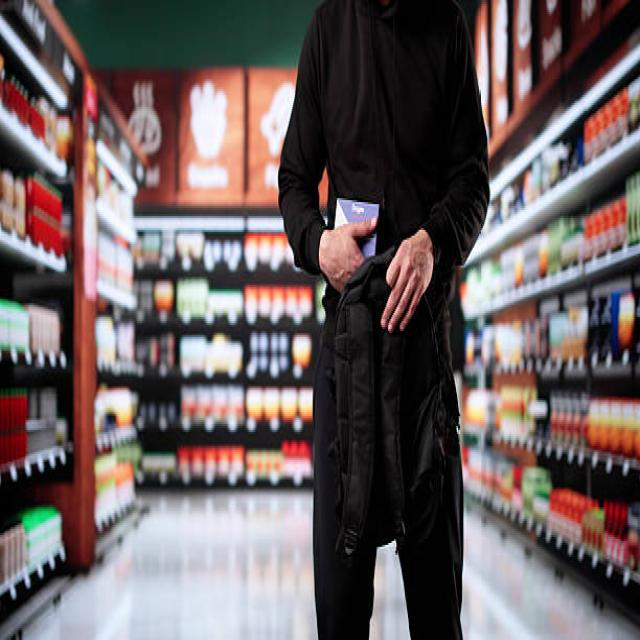article: (336, 198, 378, 226), (358, 232, 375, 256)
bags: (329, 248, 458, 563)
hands: (381, 228, 433, 329), (320, 222, 375, 291), (317, 222, 369, 289)
person: (278, 0, 488, 636)
